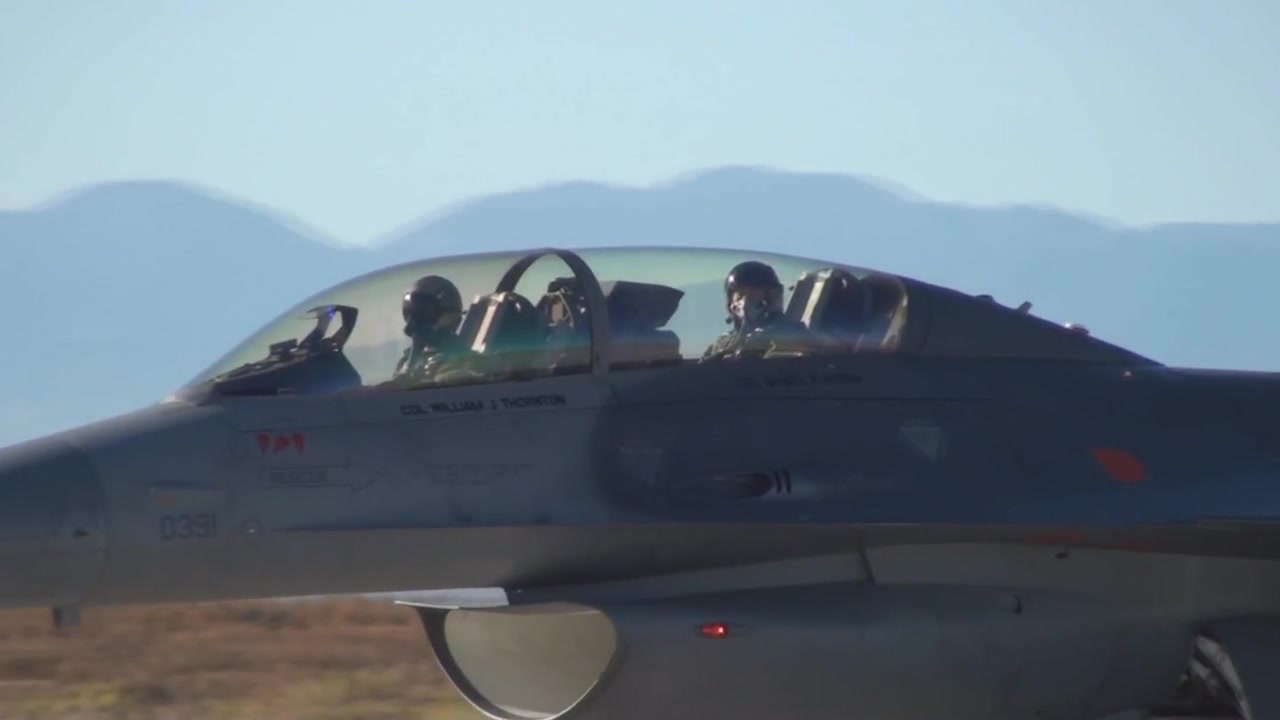aeroplane: (1, 245, 1280, 720)
